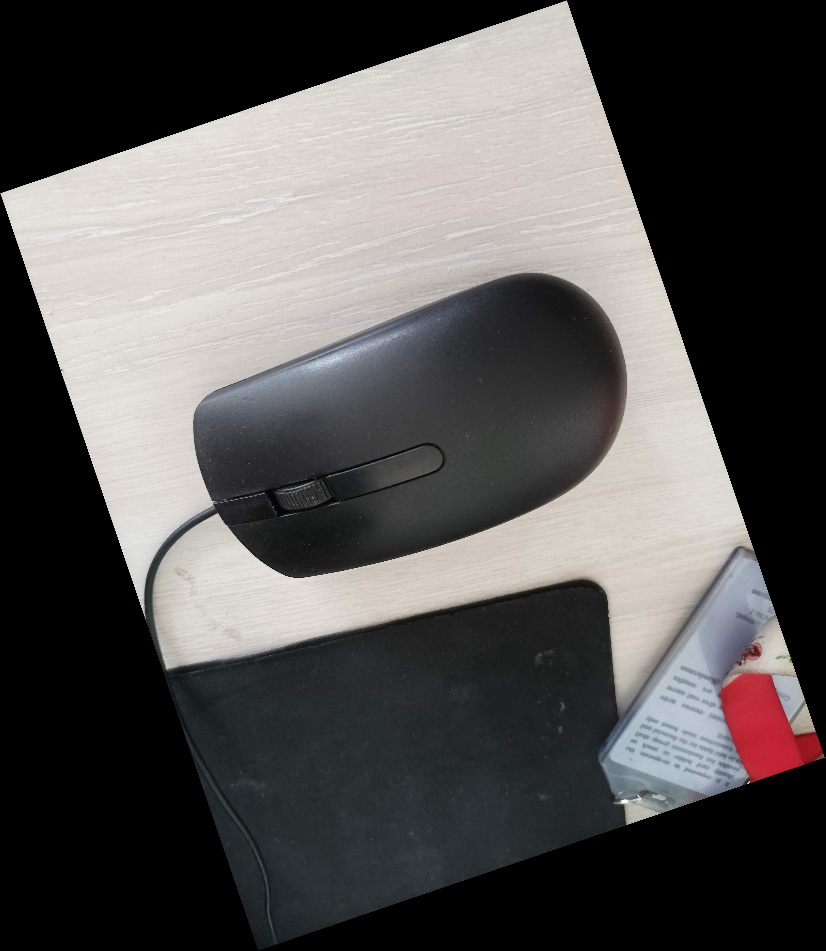mouse: (189, 270, 634, 583)
